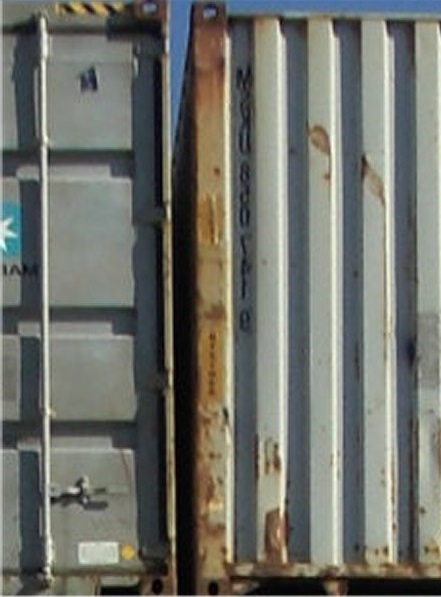container_door: (1, 4, 168, 595)
container_no_door: (190, 8, 441, 592)
